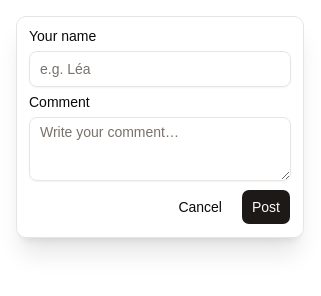
Test case: ComposePopup › blocks submit when name or body is empty
Click the button "Post" at (266, 207), box [241, 189, 291, 225]
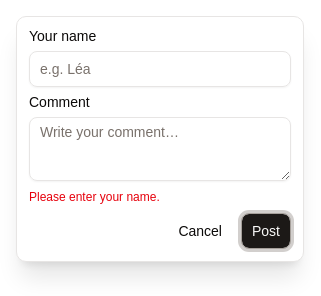
Expected: the text "Please enter your name." is shown, [29, 190, 160, 204]
